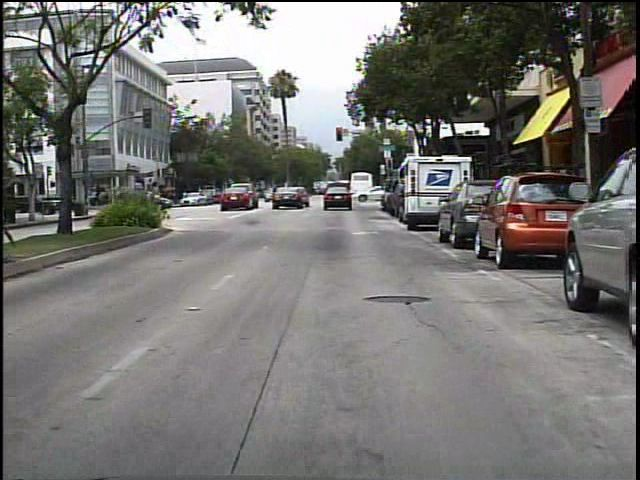person: (267, 182, 282, 206)
